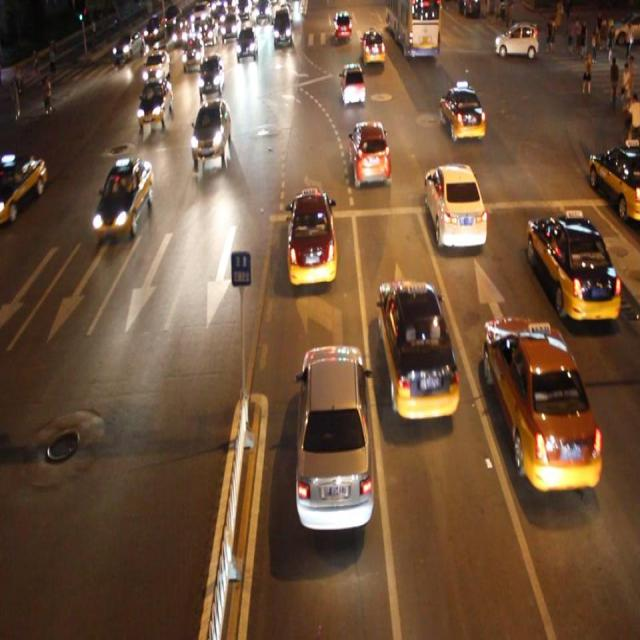car: (481, 310, 599, 490), (295, 339, 373, 532), (375, 277, 458, 418), (526, 211, 620, 324), (424, 165, 486, 249), (285, 189, 338, 285), (94, 159, 152, 240), (586, 136, 640, 218), (1, 154, 47, 224), (348, 118, 391, 188), (439, 82, 485, 141), (190, 100, 230, 161), (140, 77, 171, 127), (339, 63, 366, 106), (199, 54, 224, 94), (360, 28, 385, 67), (143, 50, 169, 83), (182, 37, 202, 70)
